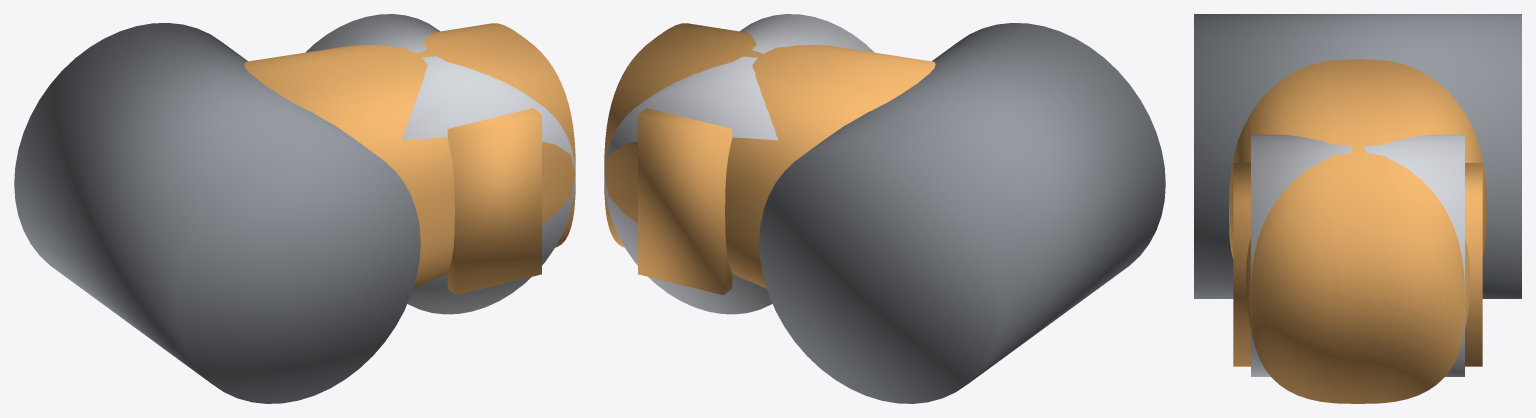
File: wrist.glb
3 renders of one model, left to right at view 1: azimuth 30°, elevation 25°; view 2: azimuth 150°, elevation 25°; view 3: azimuth 270°, elevation 25°, orthographic.
Parts seen in each view (by area): view 1: world; view 2: world; view 3: world.
Part boxes in pixels (x1,y1,x2,y2): world: (14,14,575,403); world: (604,14,1165,403); world: (1194,14,1521,403).
Bounding box in the file's own units: 0.14 × 0.08 × 0.092.
